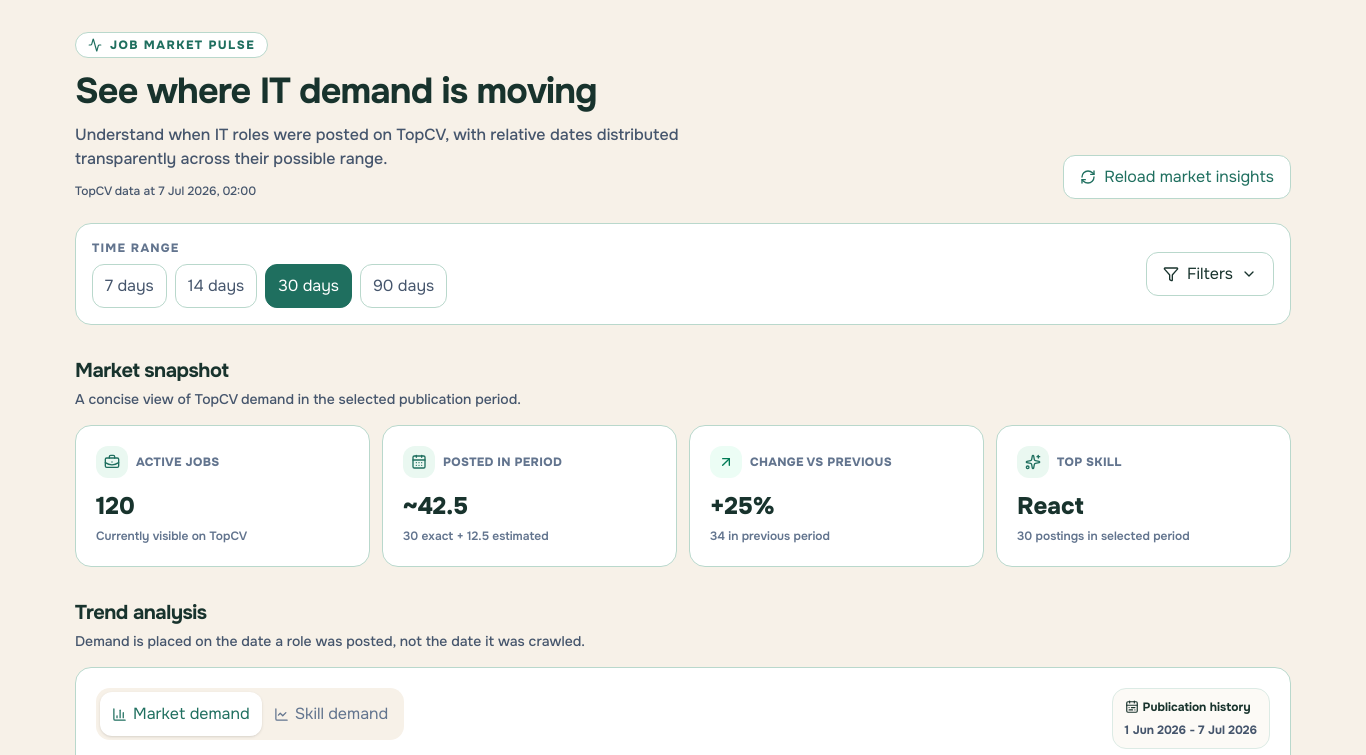
MarketPulsePage › discards unapplied advanced-filter drafts when Clear all is used
Check: the heading "Market snapshot" is shown, box x1=75 y1=358 x2=228 y2=383
Step 1. Click the button "7 days" → (129, 286), box x1=92 y1=264 x2=167 y2=308
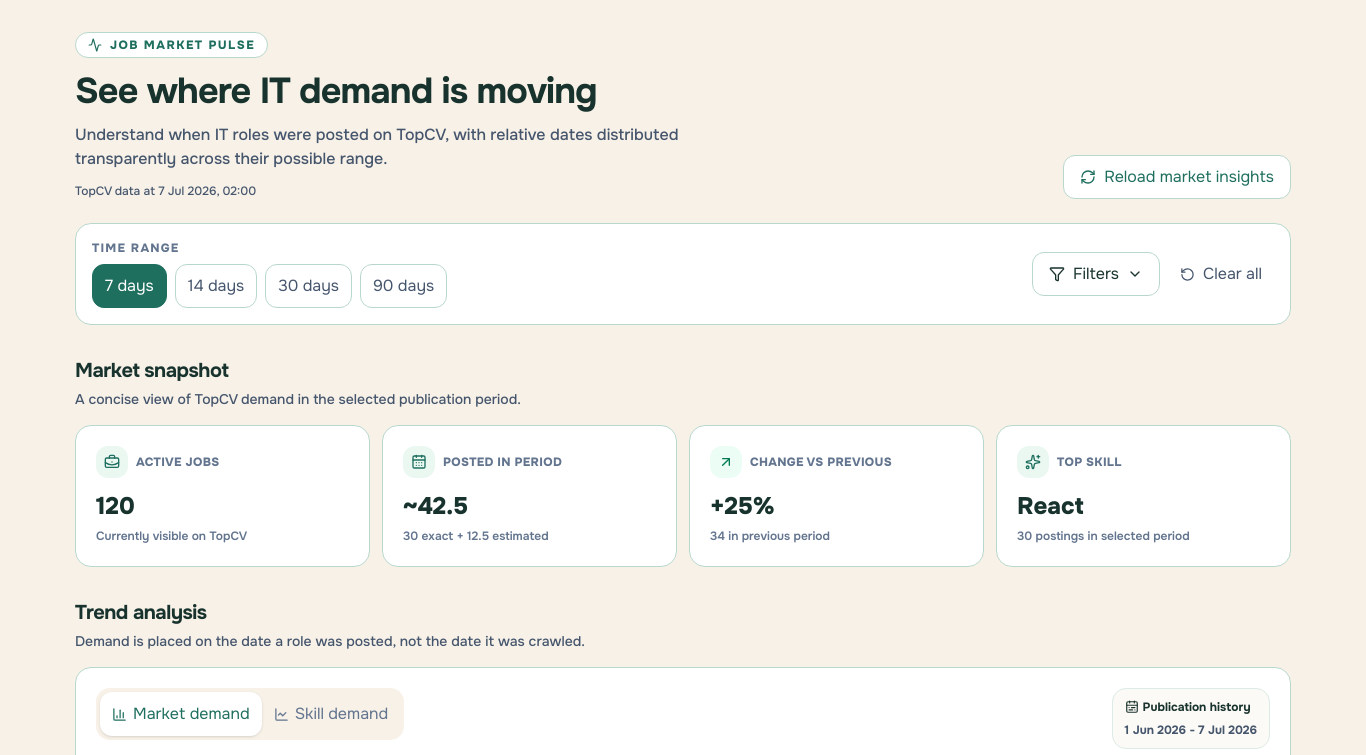
Step 2. Click the button "Filters" → (1096, 274), box x1=1032 y1=252 x2=1160 y2=296
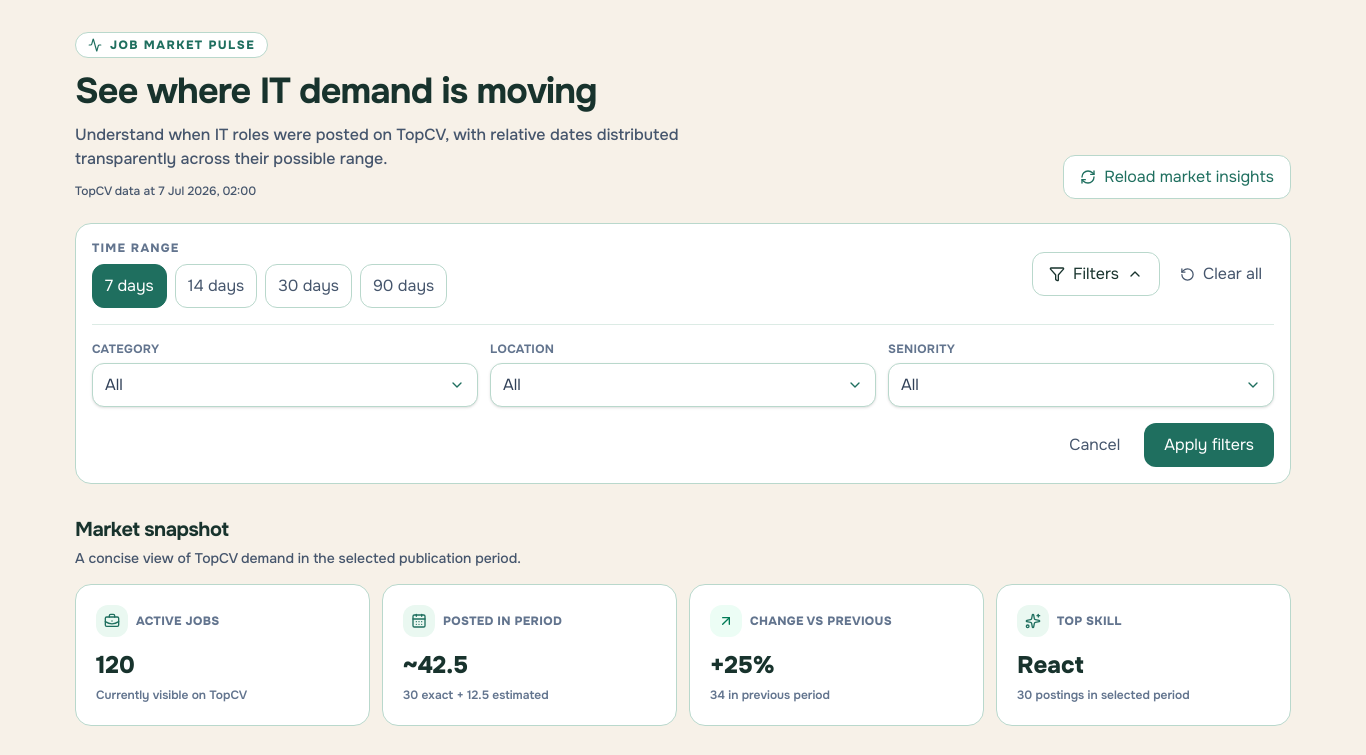
Step 3. Click the button with aria-label "Seniority" → (910, 384), box x1=888 y1=363 x2=1274 y2=407
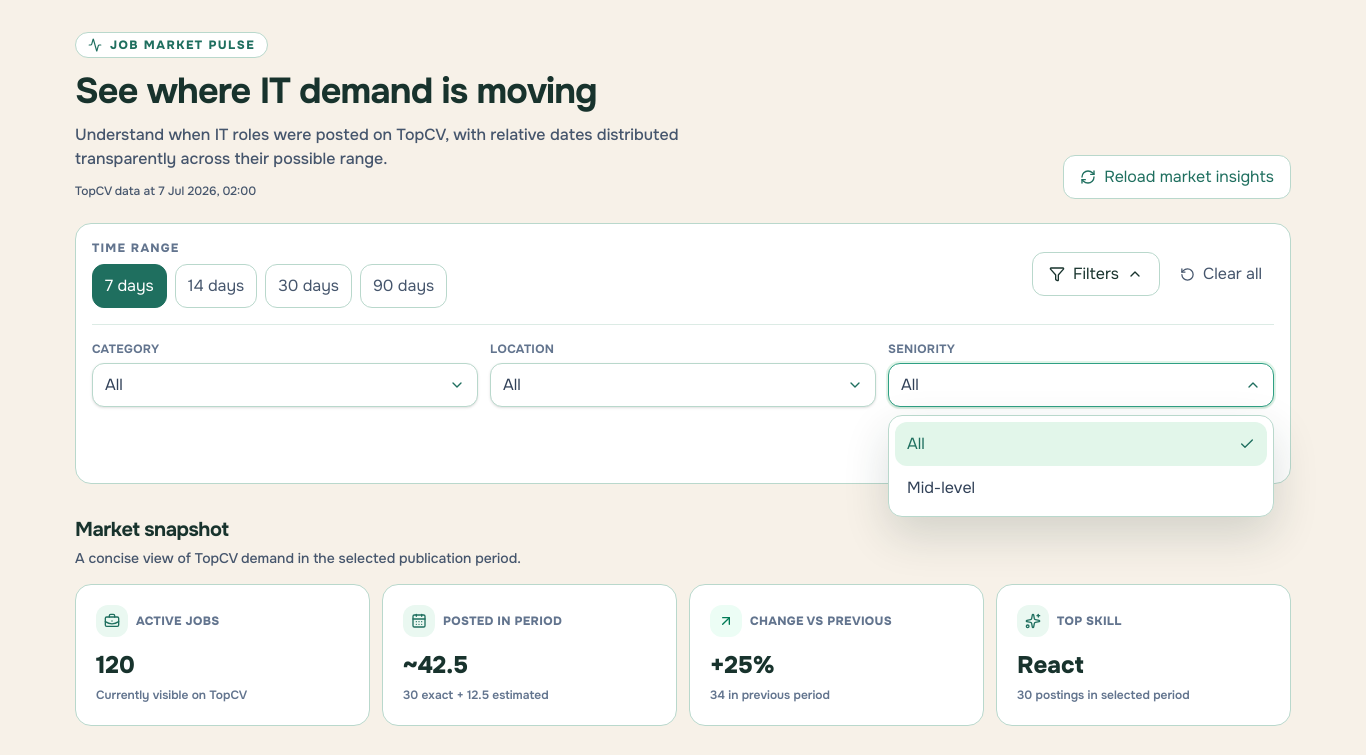
Step 4. Click the option "Mid-level" → (941, 488), box x1=895 y1=466 x2=1267 y2=510
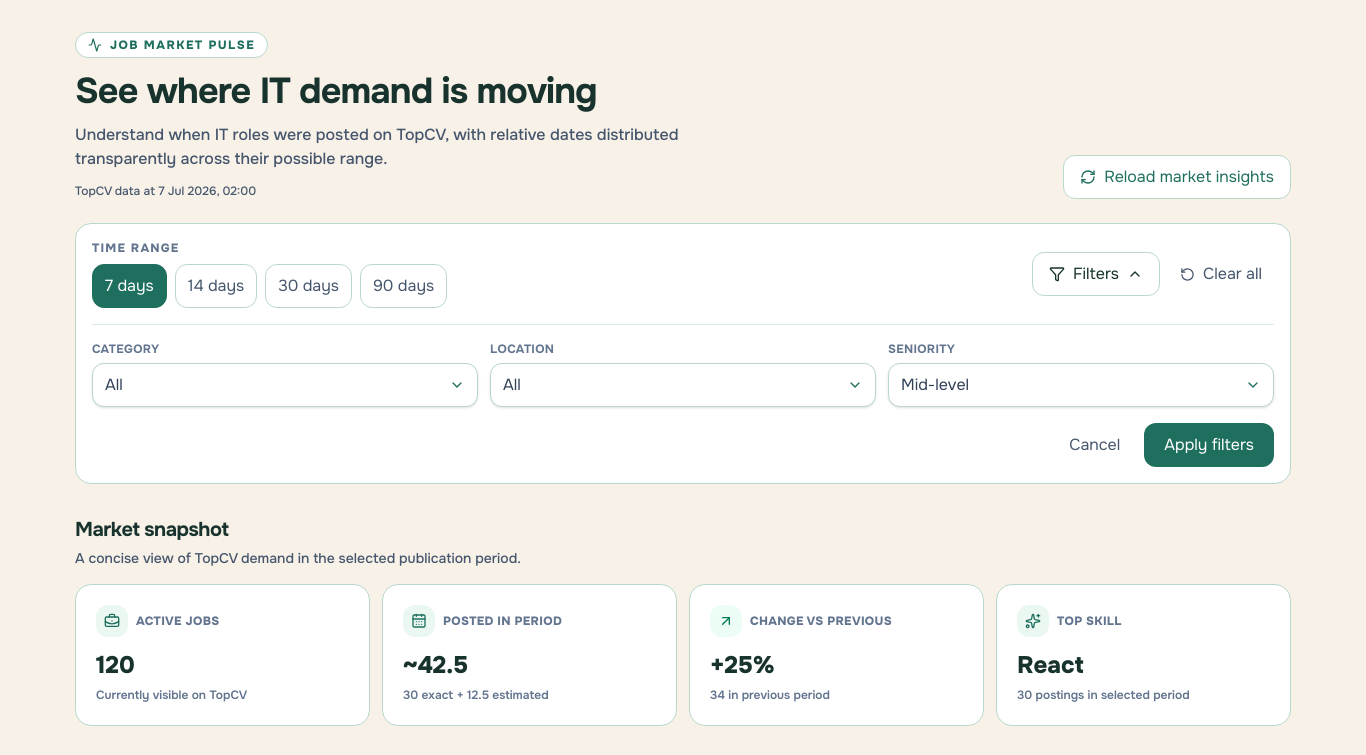
Step 5. Click the button "Clear all" → (1221, 274), box x1=1168 y1=252 x2=1274 y2=296
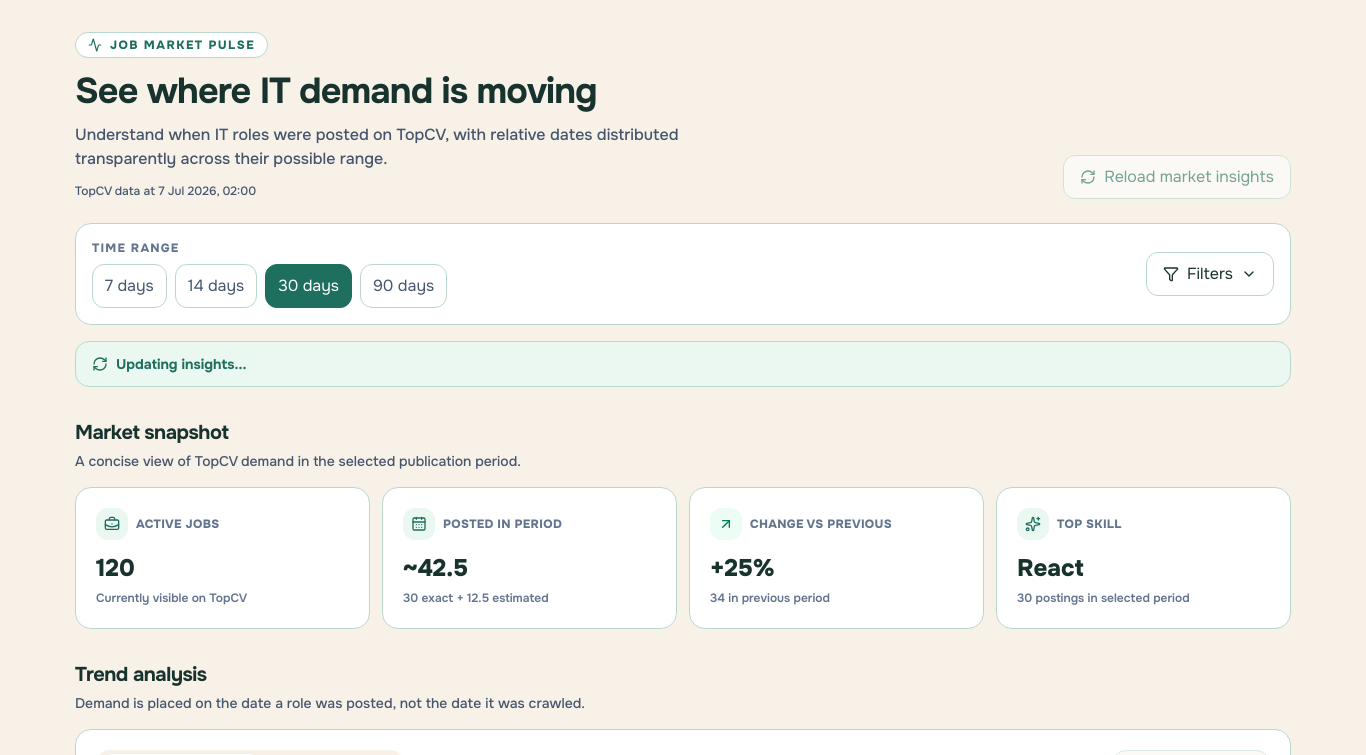
Step 6. Click the button "Filters" → (1210, 274), box x1=1146 y1=252 x2=1274 y2=296
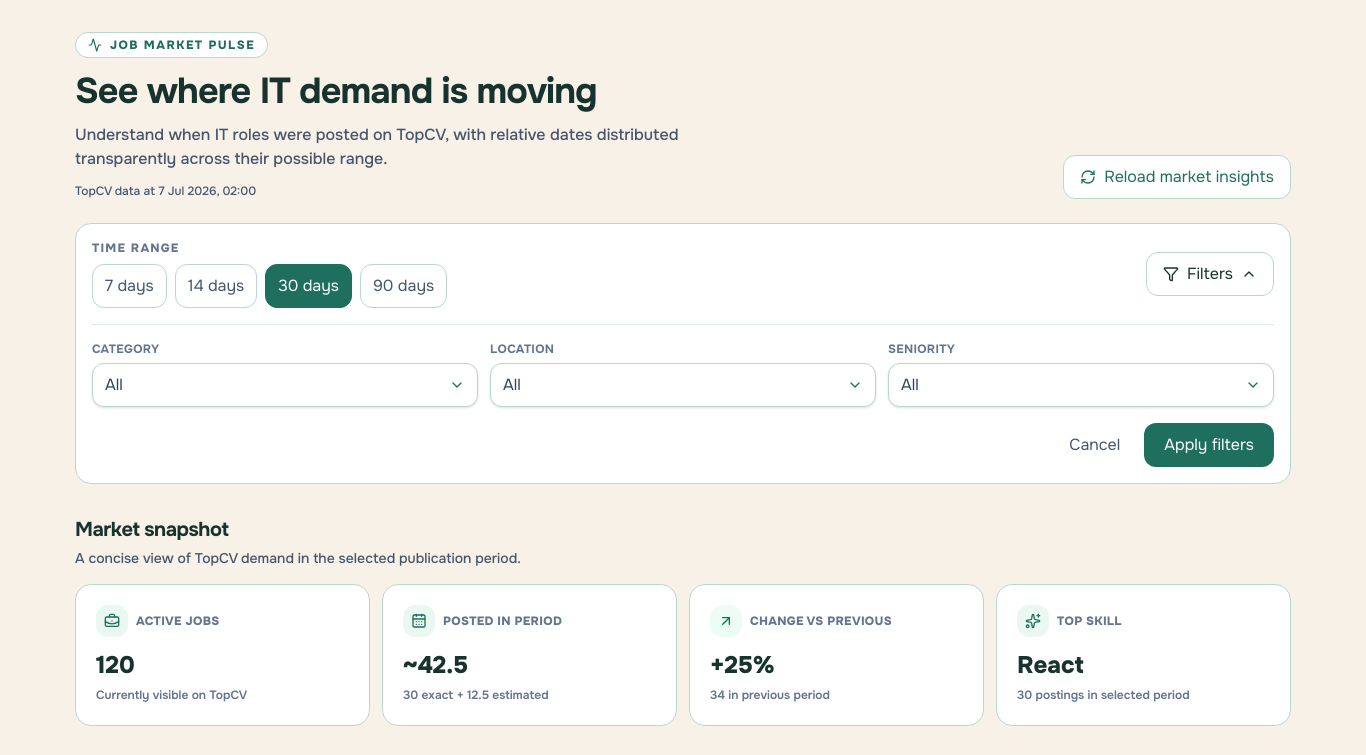
Check: the button with aria-label "Seniority" reads "All", box x1=888 y1=363 x2=1274 y2=407
